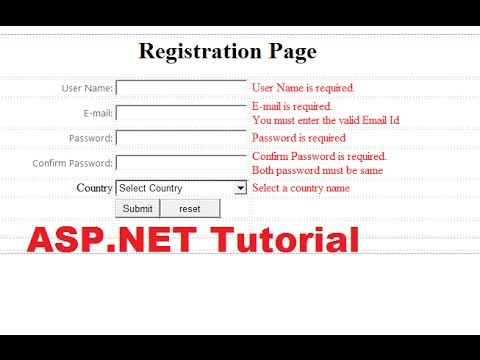button: (160, 200, 222, 220)
dropdown: (114, 177, 249, 199)
